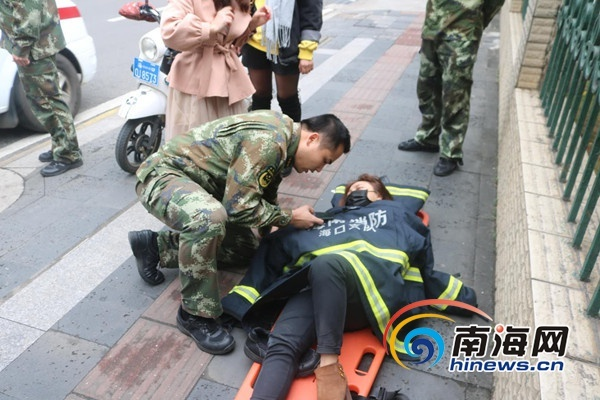falling: (201, 157, 474, 400)
